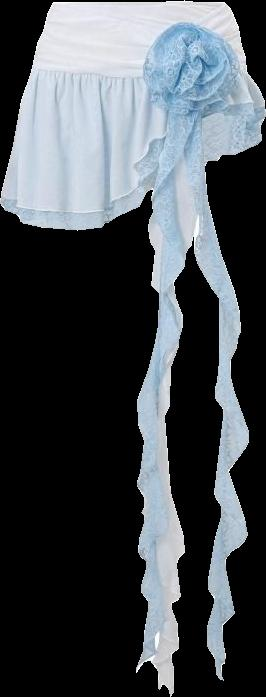Hemline: (1, 98, 265, 213), (0, 136, 265, 231)
Waistline: (49, 0, 227, 29), (28, 63, 246, 82)
